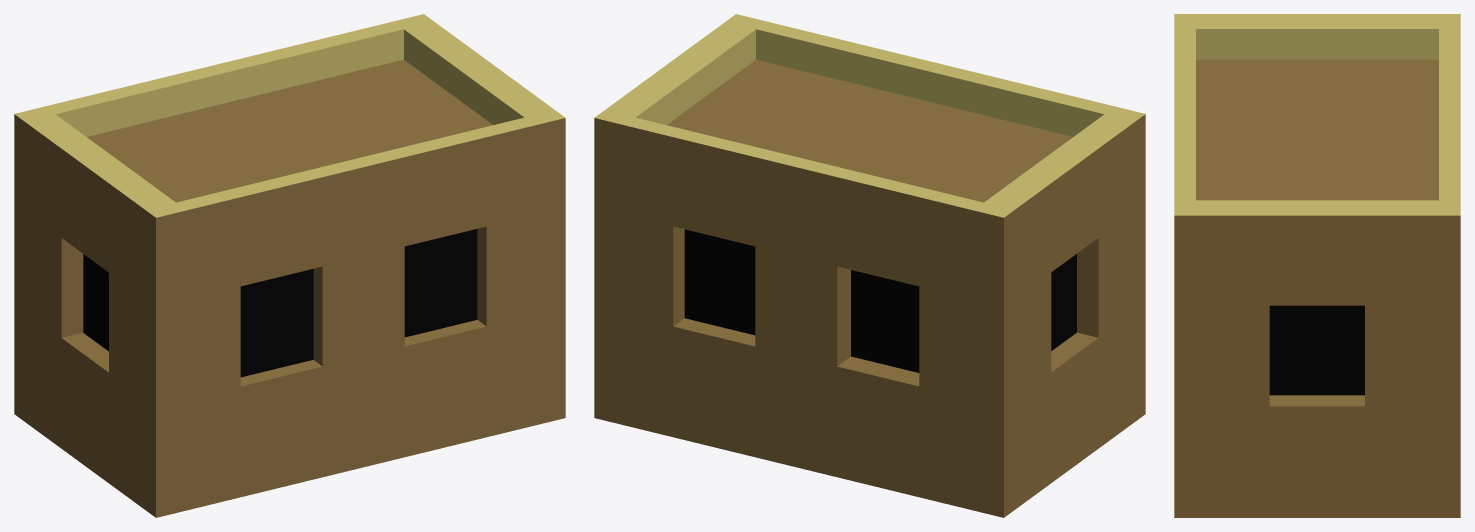
The model's file is very basic building.fbx.
3 views of the same model, side by side, from view 1: azimuth 30°, elevation 25°; view 2: azimuth 150°, elevation 25°; view 3: azimuth 270°, elevation 25° (orthographic).
Visible parts, largest first — view 1: Cube; view 2: Cube; view 3: Cube.
Part boxes in pixels (x1=…): Cube: x1=14, y1=14, x2=565, y2=517; Cube: x1=594, y1=14, x2=1145, y2=517; Cube: x1=1174, y1=14, x2=1460, y2=517.
Size of the model in its own units: 500 by 350 by 300.
